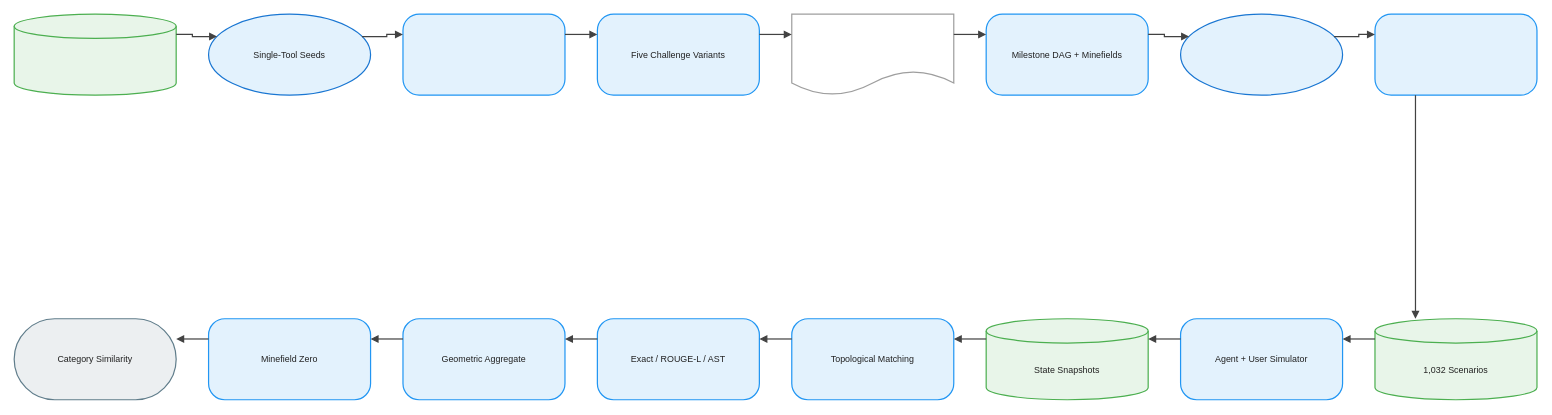
Some shapes in this 1552 by 415 pixel diagram are drawn without their labels. Here are the shapes that lost their labels. From the top down, the centre of each, then its label:
At (x=94, y=54): "34 Tools / 11 Domains".
At (x=483, y=54): "Multi-Tool / Multi-Turn".
At (x=872, y=54): "Initial State + Task".
At (x=1261, y=54): "Second-Expert Validation".
At (x=1455, y=54): "≥4 Model Iterations".
